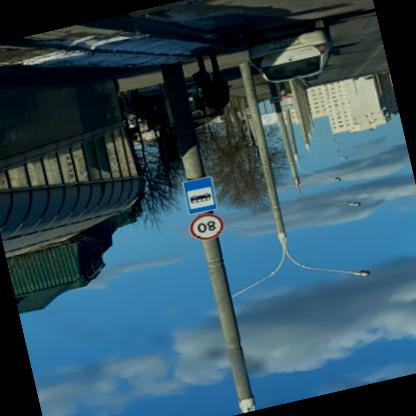speedlimit: (190, 211, 228, 244)
